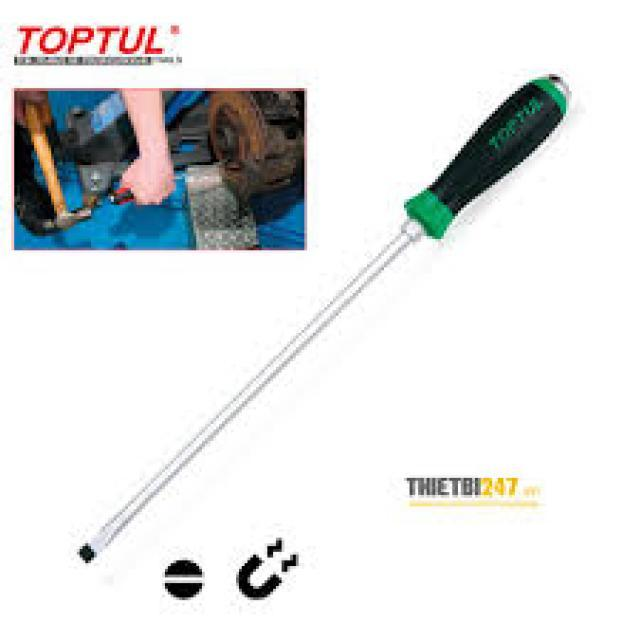screwdriver: (75, 74, 574, 569)
